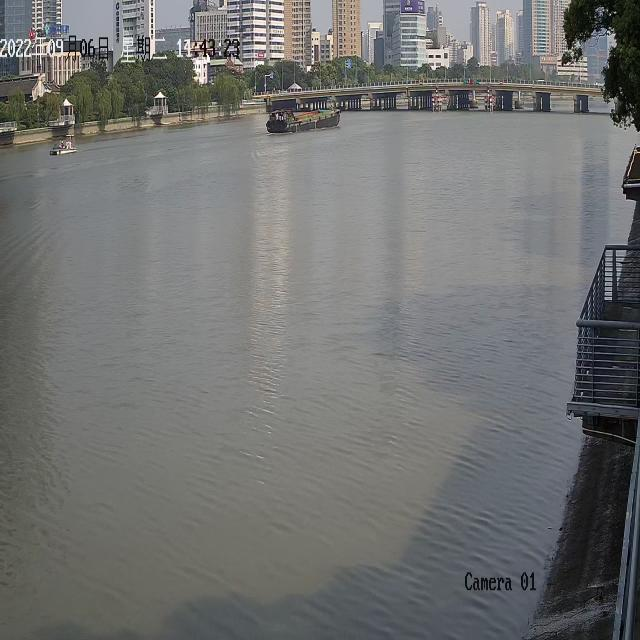ship: (265, 107, 341, 132), (49, 132, 77, 154)
